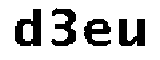3: (51, 7, 79, 55)
d: (9, 4, 44, 54)
e: (81, 17, 112, 52)
u: (116, 16, 149, 53)
